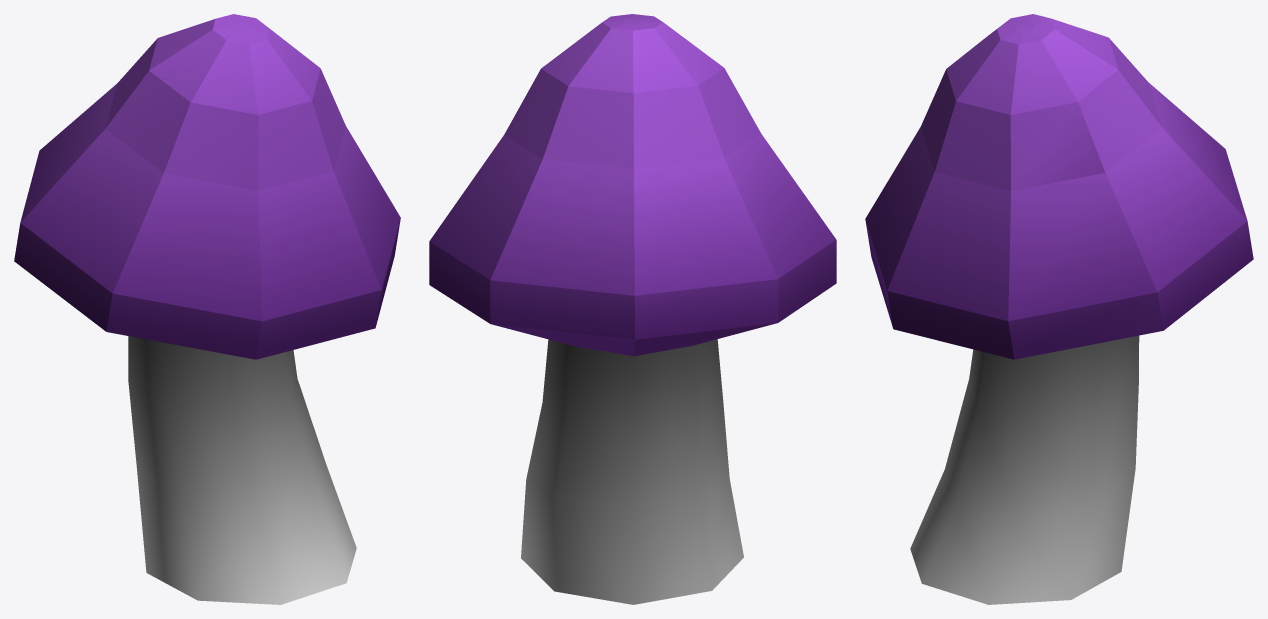
Rendered from MushroomExtraSmallPurple.FBX.
3 renders of one model, left to right at view 1: azimuth 30°, elevation 25°; view 2: azimuth 150°, elevation 25°; view 3: azimuth 270°, elevation 25°, orthographic. The views are drawn at different scales.
Visible parts, largest first — view 1: Cylinder050; view 2: Cylinder050; view 3: Cylinder050.
Boxes of the visible parts, <box> form: Cylinder050: <box>14,14,400,604</box>; Cylinder050: <box>429,14,836,604</box>; Cylinder050: <box>865,14,1253,604</box>.
Bounding box in the file's own units: 12.54 × 19.04 × 12.58.
